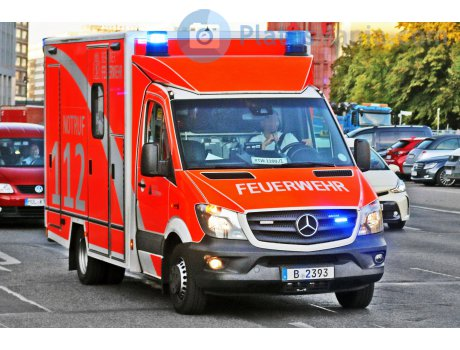License Plates: (287, 262, 335, 279)
